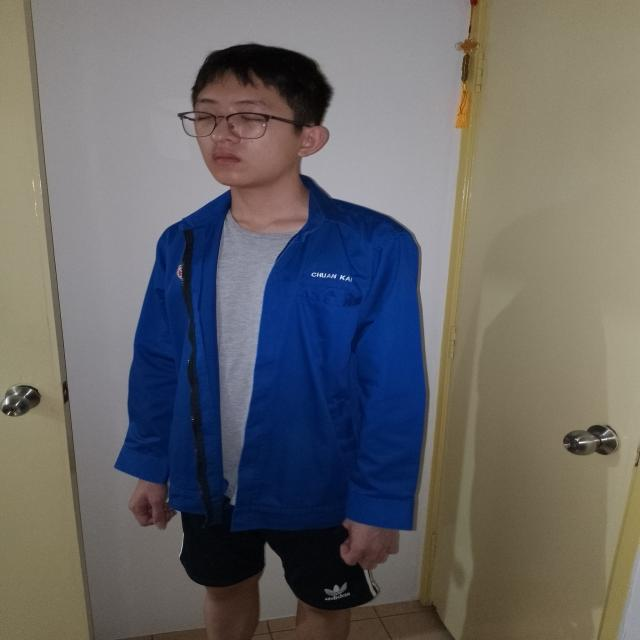person_with_labcoat: (115, 44, 425, 640)
